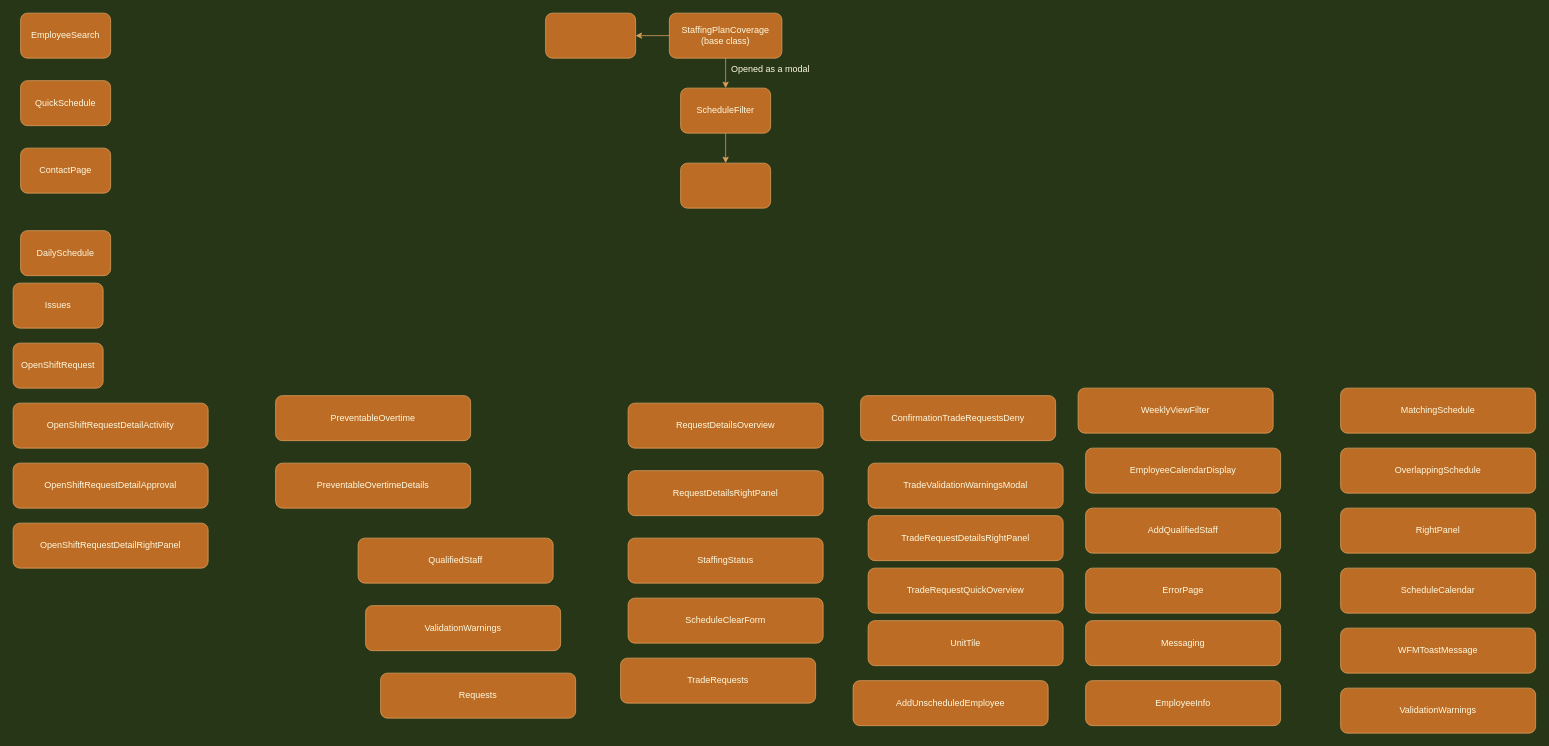
This 1549x746 diagram has some shape labels left out. Each missing label, with the box of its shape:
FilterTile: (680, 162, 771, 208)
StaffingTotals (extended): (545, 12, 636, 58)
